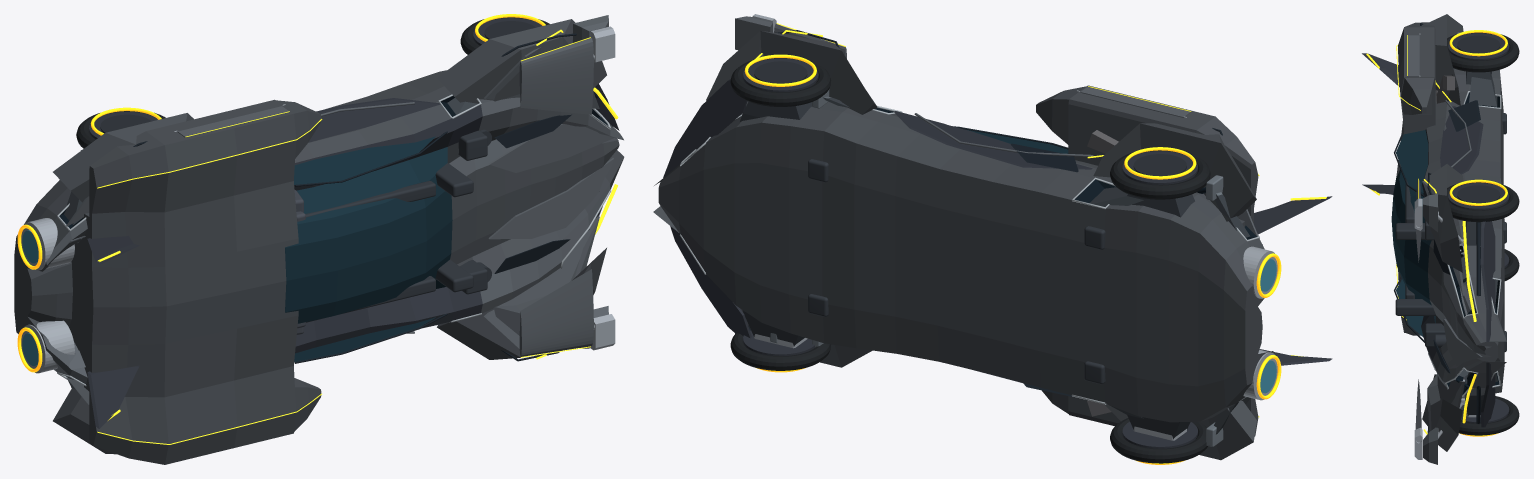
The model's file is phantom-a10.glb.
3 renders of one model, left to right at view 1: azimuth 30°, elevation 25°; view 2: azimuth 150°, elevation 25°; view 3: azimuth 270°, elevation 25°, orthographic. The views are drawn at different scales.
Parts seen in each view (by area): view 1: PHANTOM_A8_INTEGRATED_DUCTED_FACETED_CFRP_HULL, PHANTOM_FRONT_RIGHT_WIDEBODY_ANGULAR_FENDER, A10_CANARD_L_ALL_MOVING_BLADE, A10_CANARD_R_ALL_MOVING_BLADE, PHANTOM_LEFT_SPEAR_BONNET_RIDGE, PHANTOM_FRONT_LEFT_WIDEBODY_ANGULAR_FENDER, PHANTOM_RIGHT_SPEAR_BONNET_RIDGE, PHANTOM_RIGHT_TRIANGULAR_COUPÉ_SIDEGLASS, PHANTOM_REAR_RIGHT_WIDEBODY_ANGULAR_FENDER, PHANTOM_RIGHT_BLACK_INVERTED_SPEAR_DOOR, PHANTOM_LEFT_NOSE_TO_WHEEL_SHOULDER, PHANTOM_LEFT_ANGULAR_RAKED_V_TAIL (+15 smaller); view 2: PHANTOM_A8_INTEGRATED_DUCTED_FACETED_CFRP_HULL, PHANTOM_REAR_RIGHT_WIDEBODY_ANGULAR_FENDER, PHANTOM_FRONT_RIGHT_WIDEBODY_ANGULAR_FENDER, PHANTOM_RIGHT_RAPTOR_NOSE_SPLITTER, PHANTOM_RIGHT_BLACK_INVERTED_SPEAR_DOOR, WHEEL_RR_CLOSED_TYRE, WHEEL_FR_CLOSED_TYRE, PHANTOM_REAR_LEFT_WIDEBODY_ANGULAR_FENDER, WHEEL_RL_CLOSED_TYRE, PHANTOM_LEFT_RAPTOR_NOSE_SPLITTER, WHEEL_FL_CLOSED_TYRE, PHANTOM_RIGHT_ANGULAR_RAKED_V_TAIL (+14 smaller); view 3: PHANTOM_A8_INTEGRATED_DUCTED_FACETED_CFRP_HULL, PHANTOM_FRONT_RIGHT_WIDEBODY_ANGULAR_FENDER, PHANTOM_RIGHT_BLACK_INVERTED_SPEAR_DOOR, PHANTOM_FRONT_LEFT_WIDEBODY_ANGULAR_FENDER, PHANTOM_RIGHT_TRIANGULAR_COUPÉ_SIDEGLASS, PHANTOM_REAR_RIGHT_WIDEBODY_ANGULAR_FENDER, PHANTOM_RIGHT_RAPTOR_NOSE_SPLITTER, WHEEL_RR_CLOSED_TYRE, WHEEL_FR_CLOSED_TYRE, WHEEL_FL_CLOSED_TYRE, PHANTOM_LEFT_SPEAR_BONNET_RIDGE, PHANTOM_LEFT_NOSE_TO_WHEEL_SHOULDER (+36 smaller).
Part boxes in pixels (x1,y1,x2,y2): PHANTOM_A8_INTEGRATED_DUCTED_FACETED_CFRP_HULL: (14, 70, 624, 464); PHANTOM_FRONT_RIGHT_WIDEBODY_ANGULAR_FENDER: (437, 19, 606, 103); A10_CANARD_L_ALL_MOVING_BLADE: (519, 269, 593, 356); A10_CANARD_R_ALL_MOVING_BLADE: (519, 38, 593, 114); PHANTOM_LEFT_SPEAR_BONNET_RIDGE: (488, 158, 613, 239); PHANTOM_FRONT_LEFT_WIDEBODY_ANGULAR_FENDER: (437, 248, 606, 359); PHANTOM_RIGHT_SPEAR_BONNET_RIDGE: (488, 124, 613, 172); PHANTOM_RIGHT_TRIANGULAR_COUPÉ_SIDEGLASS: (294, 136, 435, 184); PHANTOM_REAR_RIGHT_WIDEBODY_ANGULAR_FENDER: (53, 113, 193, 202); PHANTOM_RIGHT_BLACK_INVERTED_SPEAR_DOOR: (308, 98, 440, 142); PHANTOM_LEFT_NOSE_TO_WHEEL_SHOULDER: (484, 216, 599, 348); PHANTOM_LEFT_ANGULAR_RAKED_V_TAIL: (87, 365, 139, 428); PHANTOM_A8_INTEGRATED_DUCTED_FACETED_CFRP_HULL: (653, 85, 1276, 436); PHANTOM_REAR_RIGHT_WIDEBODY_ANGULAR_FENDER: (1093, 123, 1256, 221); PHANTOM_FRONT_RIGHT_WIDEBODY_ANGULAR_FENDER: (706, 31, 877, 114); PHANTOM_RIGHT_RAPTOR_NOSE_SPLITTER: (663, 79, 747, 177); PHANTOM_RIGHT_BLACK_INVERTED_SPEAR_DOOR: (894, 111, 1092, 169); WHEEL_RR_CLOSED_TYRE: (1110, 150, 1210, 199); WHEEL_FR_CLOSED_TYRE: (730, 58, 831, 106); PHANTOM_REAR_LEFT_WIDEBODY_ANGULAR_FENDER: (1104, 400, 1256, 460); WHEEL_RL_CLOSED_TYRE: (1110, 418, 1207, 463); PHANTOM_LEFT_RAPTOR_NOSE_SPLITTER: (670, 226, 751, 337); WHEEL_FL_CLOSED_TYRE: (730, 325, 831, 370); PHANTOM_RIGHT_ANGULAR_RAKED_V_TAIL: (1254, 196, 1332, 234); PHANTOM_A8_INTEGRATED_DUCTED_FACETED_CFRP_HULL: (1391, 22, 1506, 395); PHANTOM_FRONT_RIGHT_WIDEBODY_ANGULAR_FENDER: (1427, 164, 1463, 272); PHANTOM_RIGHT_BLACK_INVERTED_SPEAR_DOOR: (1440, 106, 1483, 174); PHANTOM_FRONT_LEFT_WIDEBODY_ANGULAR_FENDER: (1427, 374, 1462, 451); PHANTOM_RIGHT_TRIANGULAR_COUPÉ_SIDEGLASS: (1396, 130, 1428, 192); PHANTOM_REAR_RIGHT_WIDEBODY_ANGULAR_FENDER: (1425, 14, 1463, 105); PHANTOM_RIGHT_RAPTOR_NOSE_SPLITTER: (1480, 221, 1495, 341); WHEEL_RR_CLOSED_TYRE: (1447, 32, 1519, 72); WHEEL_FR_CLOSED_TYRE: (1447, 182, 1519, 222); WHEEL_FL_CLOSED_TYRE: (1459, 396, 1519, 435); PHANTOM_LEFT_SPEAR_BONNET_RIDGE: (1443, 319, 1482, 365); PHANTOM_LEFT_NOSE_TO_WHEEL_SHOULDER: (1422, 374, 1464, 428).
Size of the model in its own units: 4.91 by 2.52 by 1.4.
